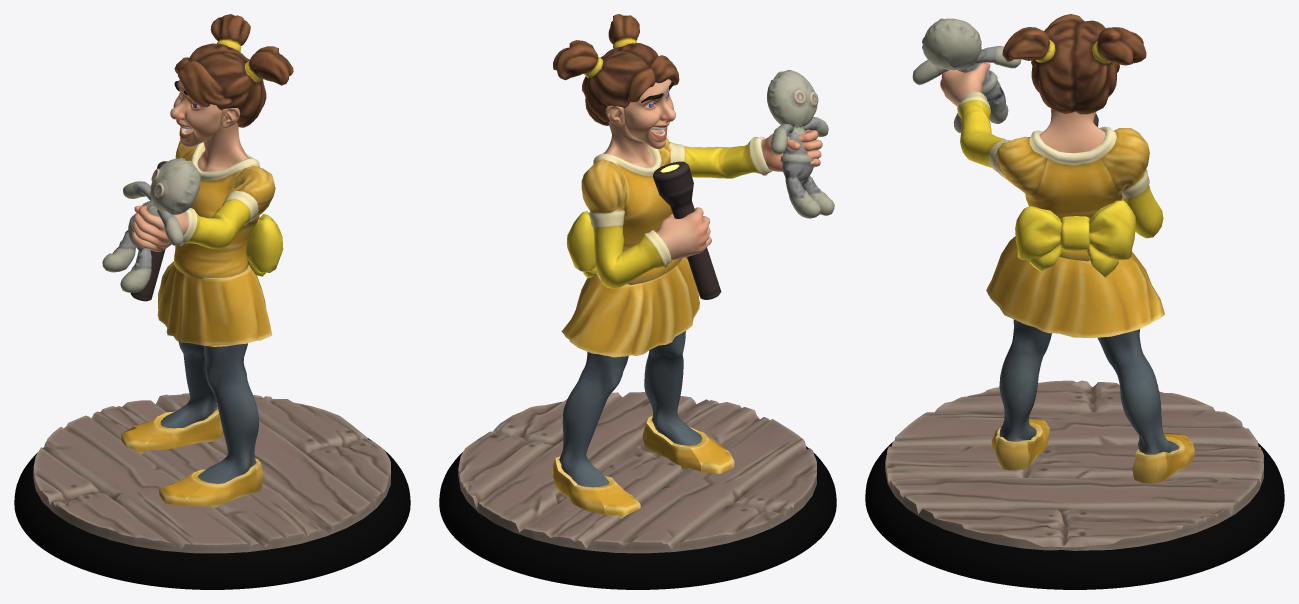
The model's file is isa-valencia.glb.
3 views of the same model, side by side, from view 1: azimuth 30°, elevation 25°; view 2: azimuth 150°, elevation 25°; view 3: azimuth 270°, elevation 25° (orthographic). The views are drawn at different scales.
Bounding box in the file's own units: 0.7677 × 1 × 0.7677.
Materials: 1 (1 with a texture image).
